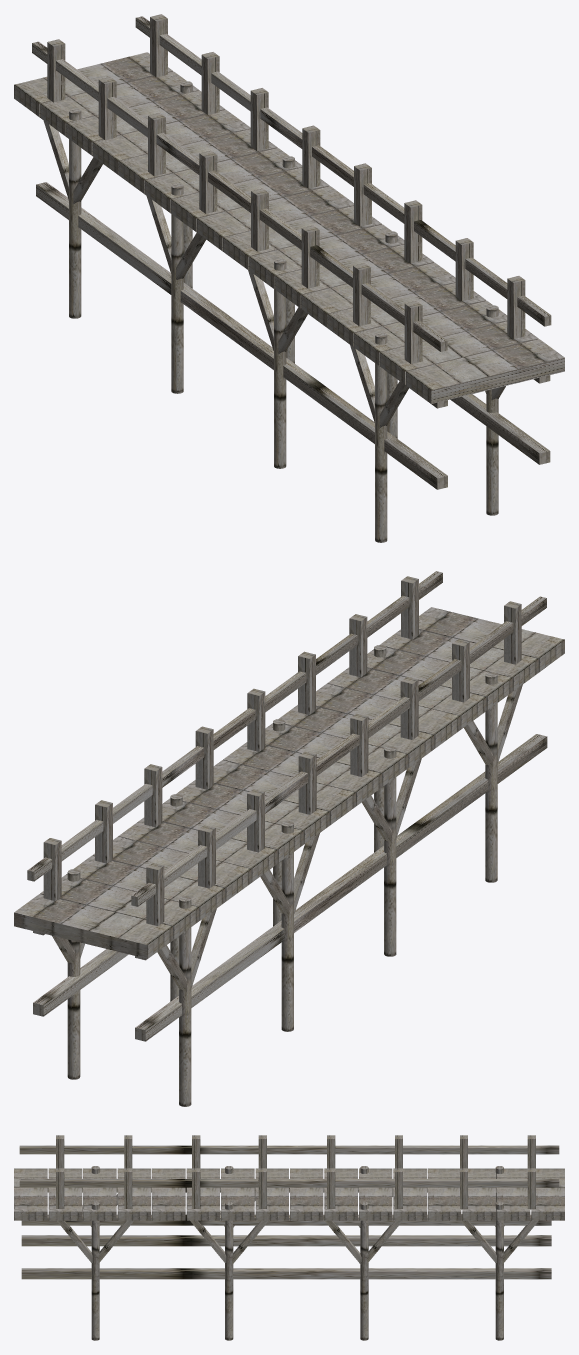
File: Wooden Bridge.fbx
3 views of the same model, one above another, from view 1: azimuth 30°, elevation 25°; view 2: azimuth 150°, elevation 25°; view 3: azimuth 270°, elevation 25° (orthographic). The views are drawn at different scales.
Visible parts, largest first — view 1: path, supportV, supportC, ralling, supportH, supportSlant, supportSlant1; view 2: path, supportV, supportC, ralling, supportH, supportSlant1, supportSlant; view 3: path, supportH, ralling, supportV, supportC, supportSlant1, supportSlant.
Part boxes in pixels (x1,y1,x2,y2): path: (14,52,564,403); supportV: (47,14,525,363); supportC: (69,81,498,542); ralling: (32,16,551,351); supportH: (36,117,550,489); supportSlant: (43,120,486,422); supportSlant1: (73,157,505,427); path: (14,607,564,958); supportV: (43,576,521,925); supportC: (67,645,497,1106); ralling: (27,571,546,906); supportH: (33,667,547,1041); supportSlant1: (80,684,522,988); supportSlant: (52,721,492,991); path: (14,1168,564,1220); supportH: (21,1187,551,1279); ralling: (19,1145,559,1187); supportV: (56,1135,535,1209); supportC: (91,1166,503,1340); supportSlant1: (57,1205,496,1264); supportSlant: (98,1192,538,1264).
Size of the model in its own units: 605 by 1101 by 3276.
Materials: 5 (5 with a texture image).
